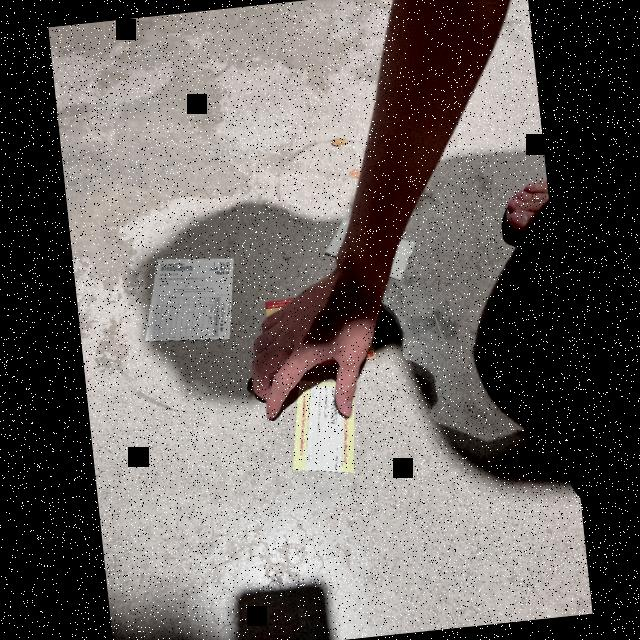scrap_paper: (122, 234, 255, 360), (276, 362, 375, 482)
